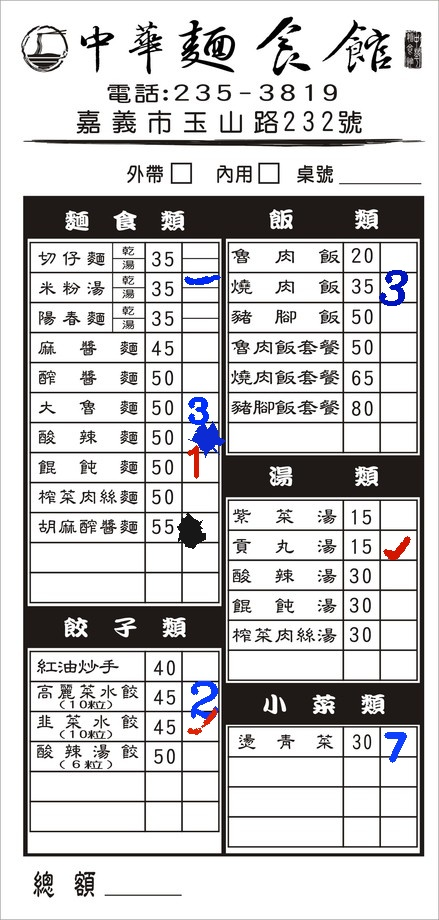marked_circle: (181, 512, 217, 541), (181, 424, 217, 453)
marked_number_1: (179, 453, 215, 482)
marked_number_2: (181, 681, 217, 710)
marked_number_3: (378, 271, 414, 300), (181, 392, 217, 421)
marked_number_7: (380, 726, 416, 755)
marked_tick: (181, 711, 217, 740), (380, 531, 416, 560), (183, 273, 217, 286)
